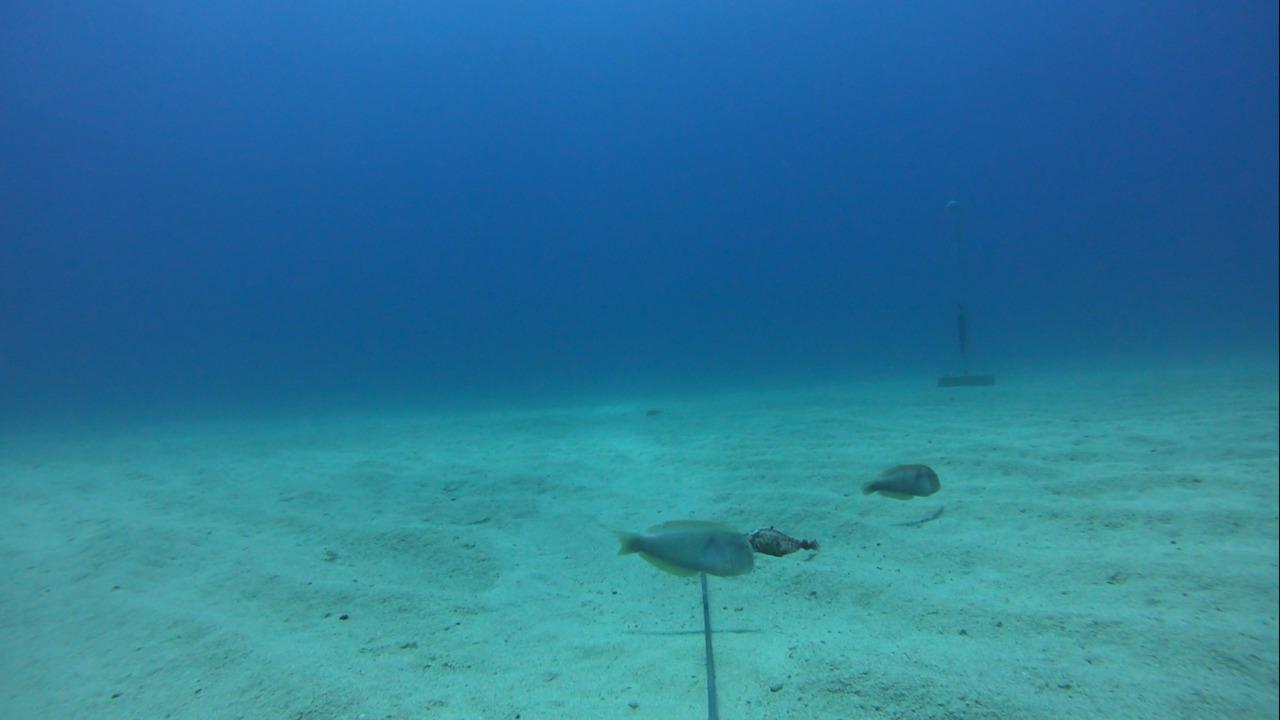raor: (594, 518, 764, 586), (847, 458, 951, 506)
